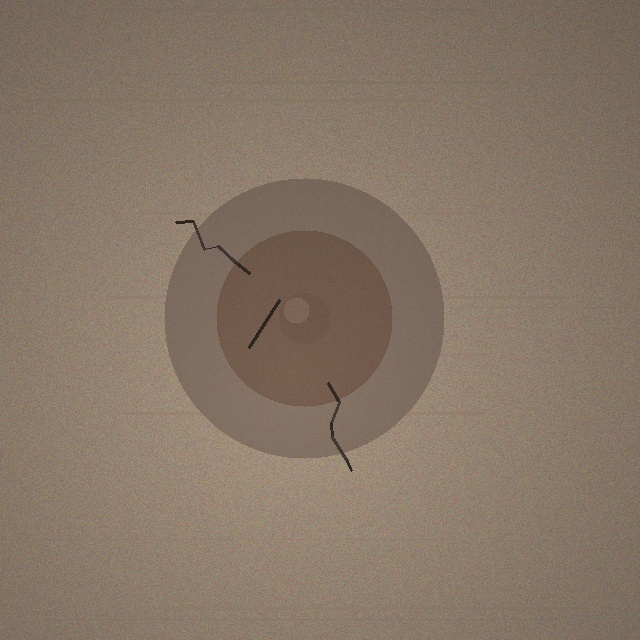crack: (164, 178, 444, 458)
